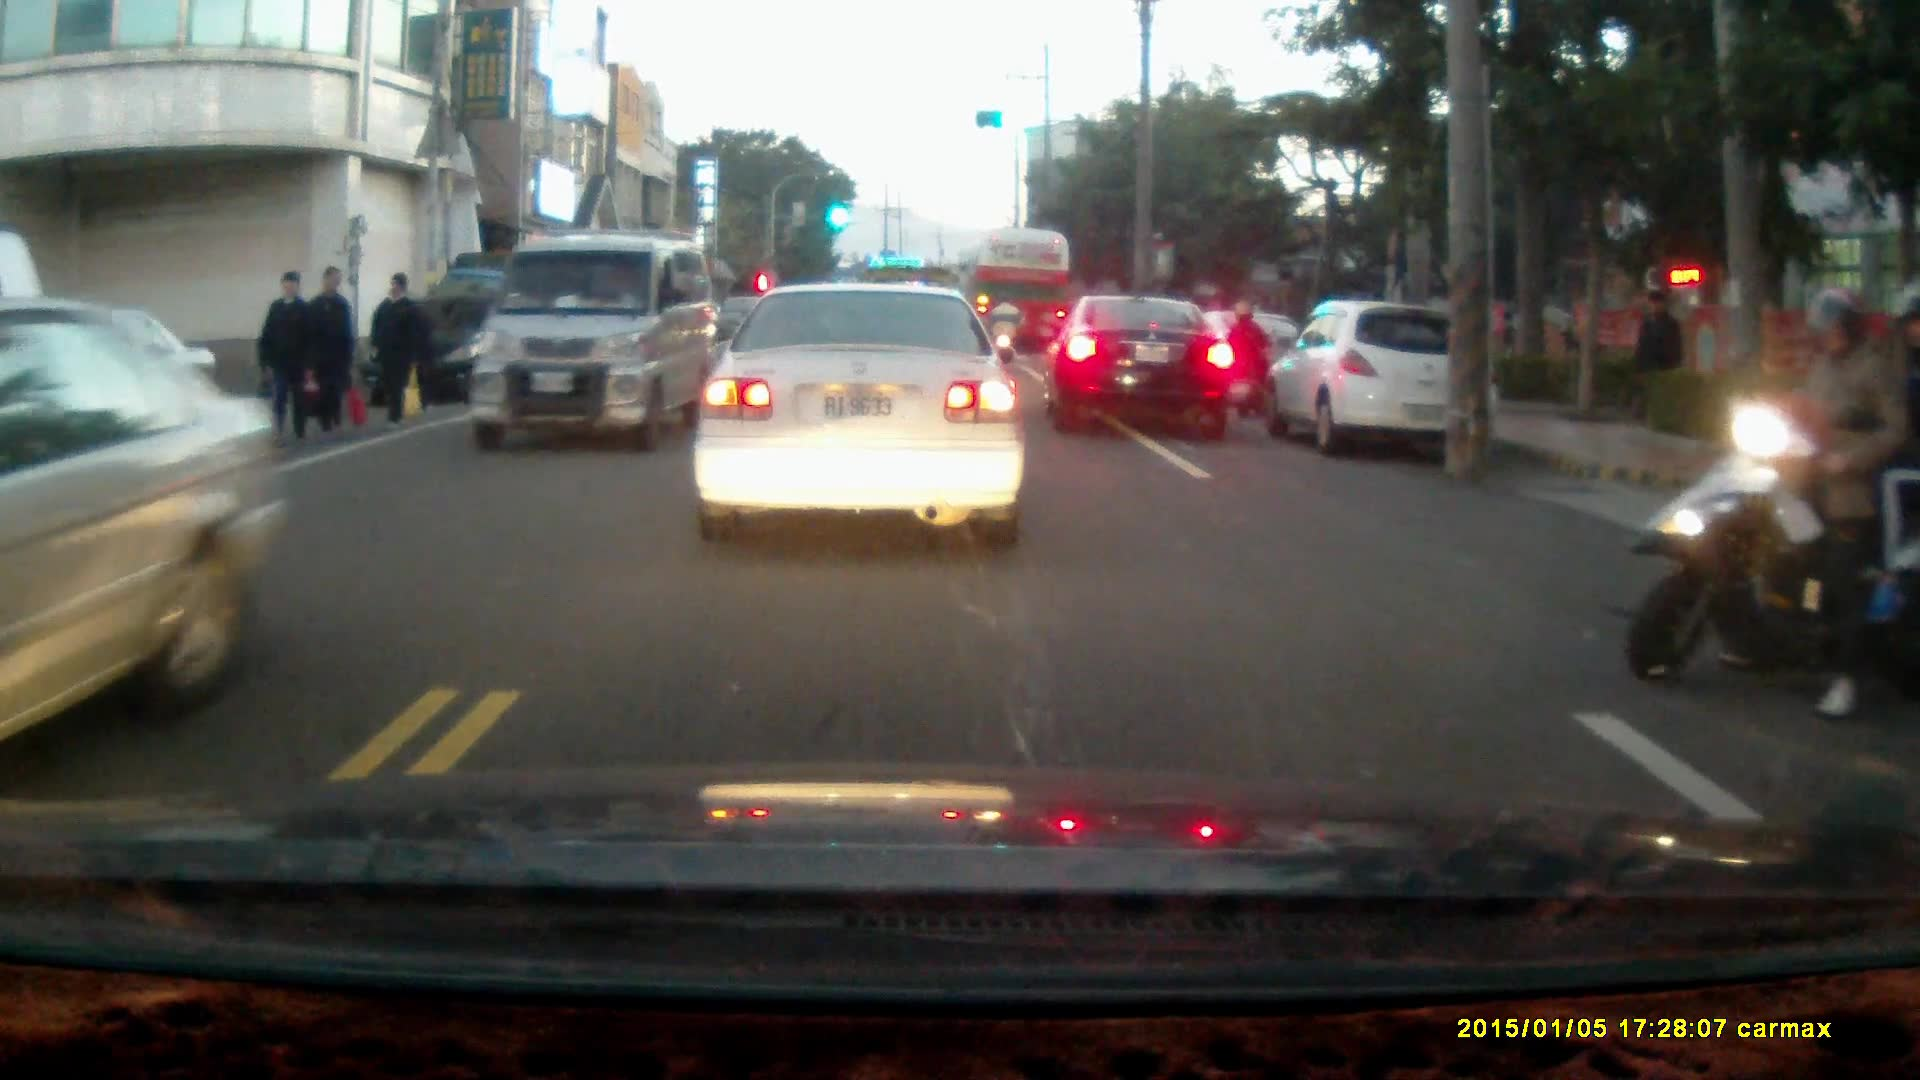pedestrian: (285, 263, 350, 460), (253, 266, 318, 455), (365, 269, 426, 428), (1634, 285, 1688, 424)
rider: (1629, 279, 1918, 713), (1223, 296, 1275, 417), (985, 290, 1024, 373)
vehicle: (1, 300, 293, 745), (690, 280, 1029, 551), (467, 230, 718, 455), (1260, 296, 1500, 462), (1045, 297, 1240, 441), (372, 293, 538, 409), (973, 224, 1072, 368)
